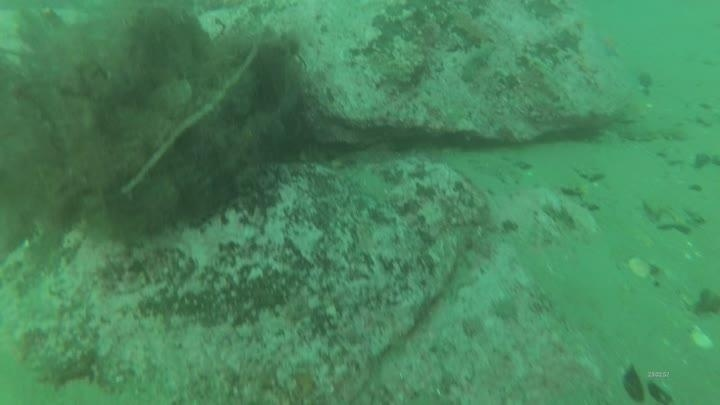holothurian: (455, 40, 498, 85), (612, 121, 689, 144), (612, 90, 656, 129)
starfish: (593, 28, 625, 60)
